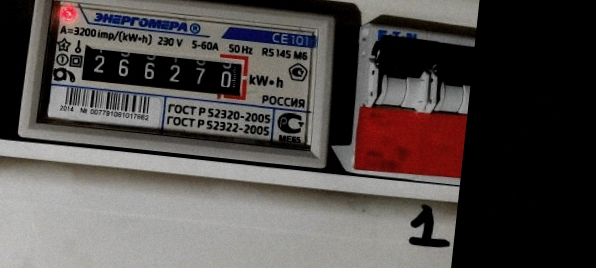0: (216, 67, 232, 88)
2: (90, 52, 105, 74), (167, 62, 182, 83)
6: (115, 55, 129, 77), (141, 59, 156, 79)
7: (193, 64, 205, 84)
screen: (68, 32, 255, 106)
